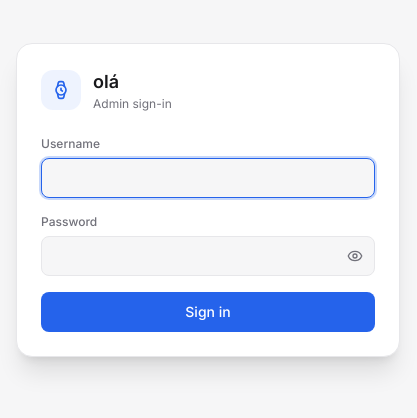
Scenario: operator sign-in › a wrong password is not a code prompt
The image size is (417, 418).
Type "boss" into the field labelled "Username" at (208, 178), box [41,158,375,198]
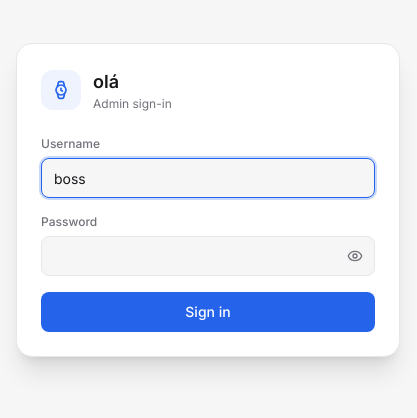
Type "wrong-password" into the password field labelled "Password" at (208, 256), box [41,236,375,276]
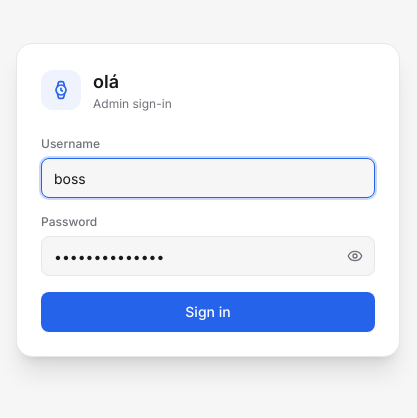
Click the button "Sign in" at (208, 312), box [41,292,375,332]
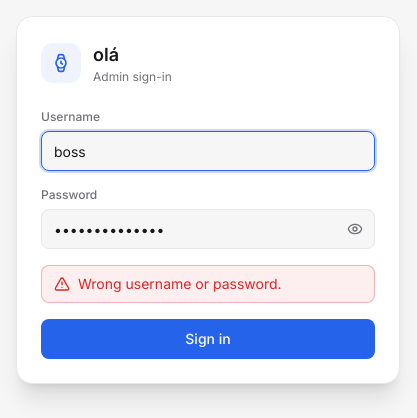
Expected: the text "Wrong username or password." is shown, [78,275,282,292]
